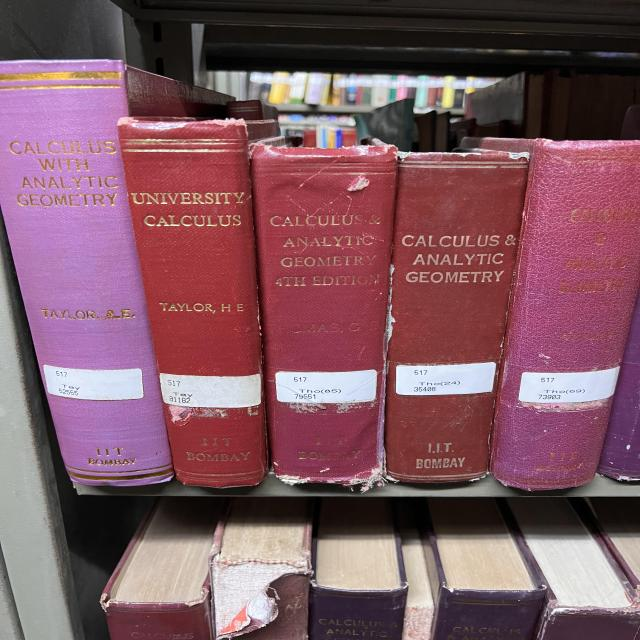Book: (0, 60, 232, 485), (462, 139, 638, 490), (118, 118, 268, 488), (252, 140, 397, 489), (385, 152, 528, 482)
Label: (518, 366, 620, 404), (160, 372, 262, 408), (43, 365, 143, 400), (395, 362, 497, 395), (275, 370, 377, 402)
